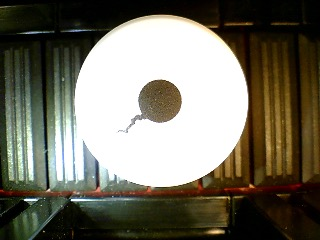CRACK: (74, 15, 249, 187)
